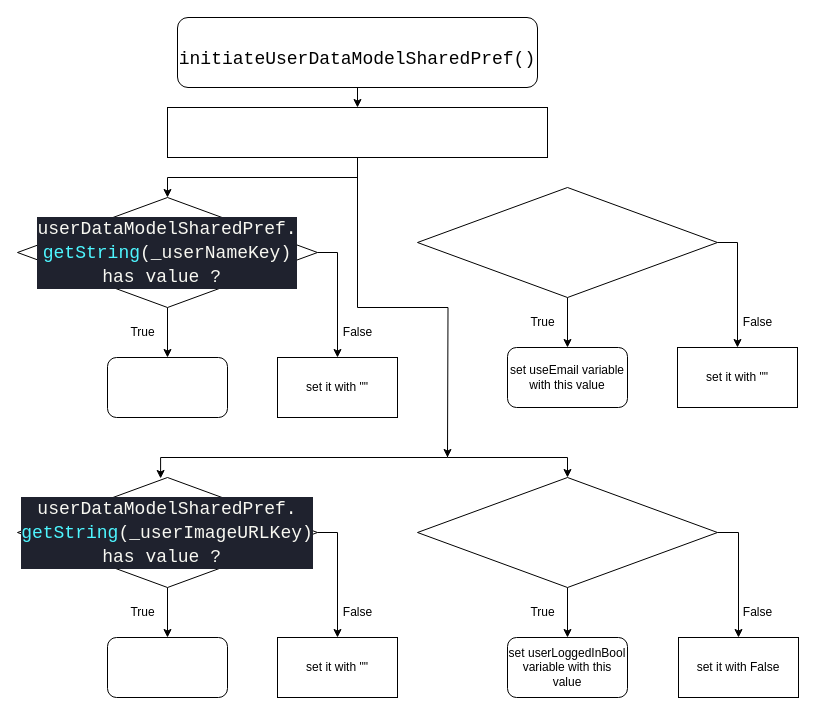
Some shapes in this 816 by 715 pixel diagram are drawn without their labels. The box of each missing label's shape, as (x1, y1, x2, y2) in pixels:
set useName variable with this value: (106, 356, 228, 418)
set userImageUrl variable with this value: (106, 636, 228, 698)
userDataModelSharedPref = await SharedPreferences . getInstance ();: (166, 106, 548, 158)
userDataModelSharedPref. getString ( _userEmailKey ) has value ?: (416, 186, 718, 298)
userDataModelSharedPref. getString ( _userLoggedInKey ) has value ?: (416, 476, 718, 588)
